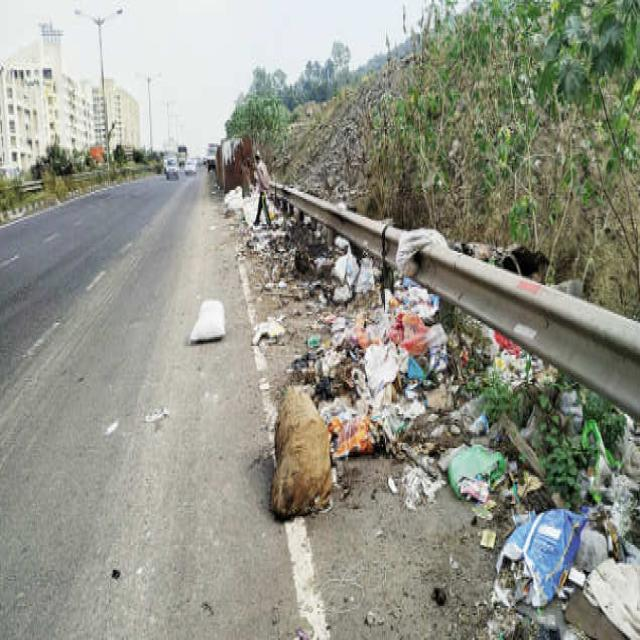garbage: (190, 125, 640, 640)
